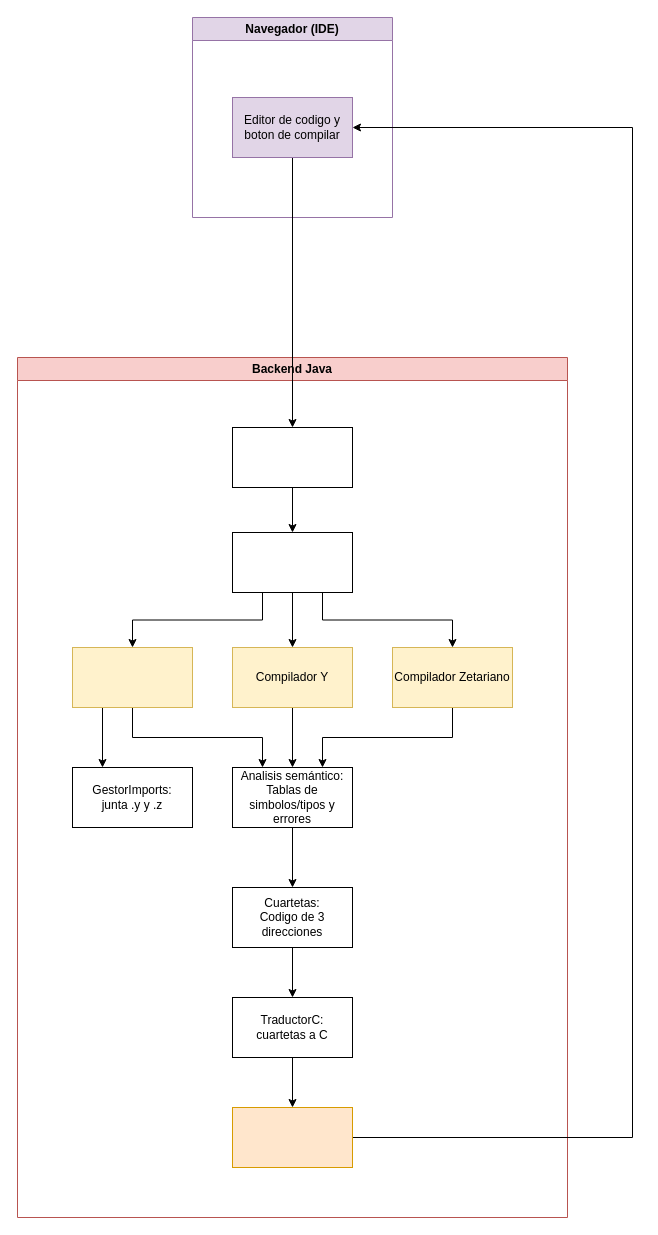
This 658x1235 diagram has some shape labels left out. Here are the shapes that lost their labels. From the top down, the box of each, then its label:
(232, 426, 352, 488): Javalin Recibe HTTP y sirve el IDE
(232, 532, 352, 592): POST en /analizar
(72, 646, 192, 708): Compilador Pig Latin
(232, 1106, 352, 1168): gcc: Compilacion a binario
